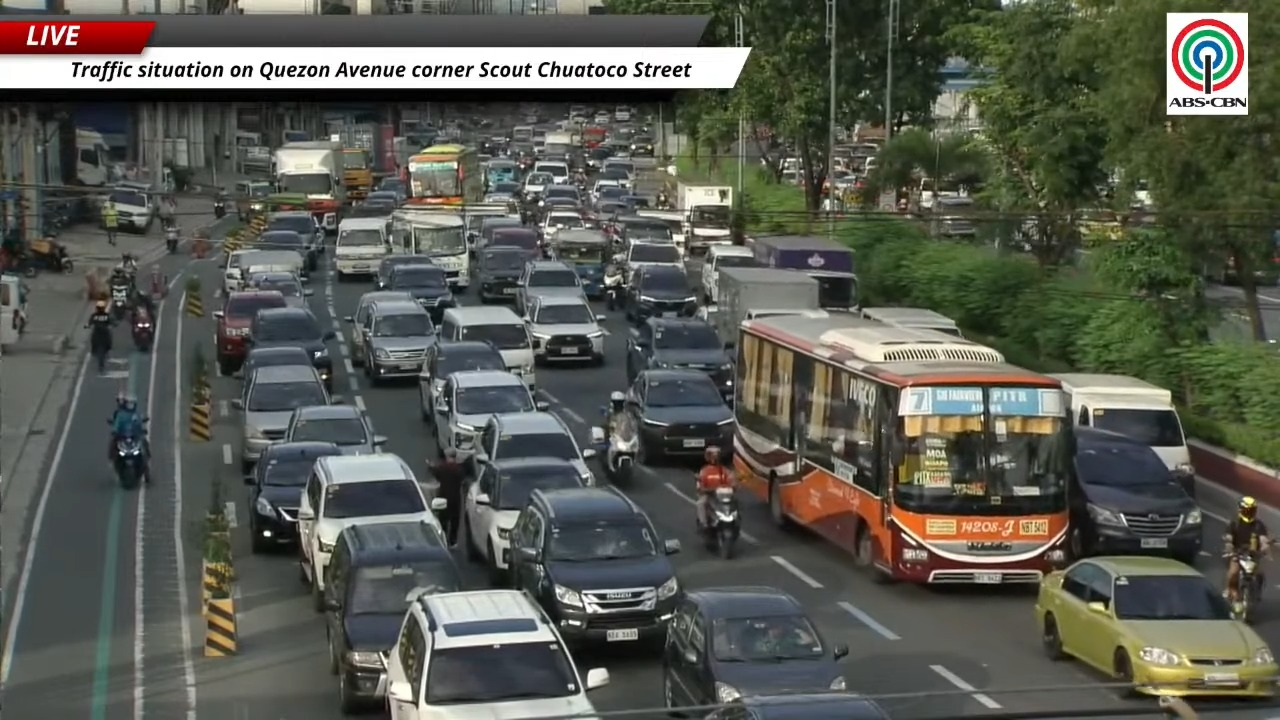bus: (733, 314, 1073, 584), (391, 207, 470, 290), (403, 144, 483, 204)
car: (1035, 556, 1279, 696), (387, 590, 608, 719), (508, 487, 681, 643), (325, 522, 461, 713), (298, 453, 446, 611), (662, 587, 848, 710), (1067, 426, 1202, 563), (463, 457, 582, 584), (232, 365, 332, 471), (245, 442, 341, 552), (434, 369, 548, 460), (624, 369, 734, 463), (467, 411, 595, 484), (626, 317, 733, 397), (248, 307, 335, 390), (418, 341, 506, 422), (355, 301, 436, 384), (214, 291, 286, 375), (526, 294, 604, 364), (344, 290, 415, 366), (705, 691, 889, 719), (284, 405, 386, 454), (624, 264, 696, 323), (386, 265, 454, 321), (515, 260, 584, 314), (264, 211, 323, 270), (474, 247, 529, 302), (254, 229, 316, 277), (247, 272, 311, 307), (241, 346, 310, 377), (375, 255, 431, 289), (471, 215, 522, 251), (485, 226, 540, 259), (233, 179, 273, 222), (617, 214, 673, 244), (536, 196, 580, 231), (541, 205, 585, 239), (344, 199, 396, 222), (595, 191, 629, 226), (598, 158, 633, 188), (523, 171, 553, 201), (591, 179, 627, 203), (376, 176, 406, 203), (542, 184, 582, 203), (585, 145, 612, 169), (364, 190, 402, 205), (630, 135, 654, 157), (489, 180, 519, 197), (694, 305, 718, 326), (483, 192, 514, 202)
motorcycle: (590, 426, 638, 485), (701, 487, 740, 559), (1231, 551, 1261, 622), (114, 435, 147, 489), (602, 264, 624, 311), (111, 282, 131, 321), (132, 315, 153, 352), (165, 225, 179, 253), (655, 193, 673, 210), (213, 199, 226, 219)
truck: (714, 267, 821, 346), (748, 235, 857, 309), (266, 141, 344, 233), (676, 182, 733, 254), (330, 123, 379, 202), (74, 128, 112, 186), (541, 131, 580, 163)
